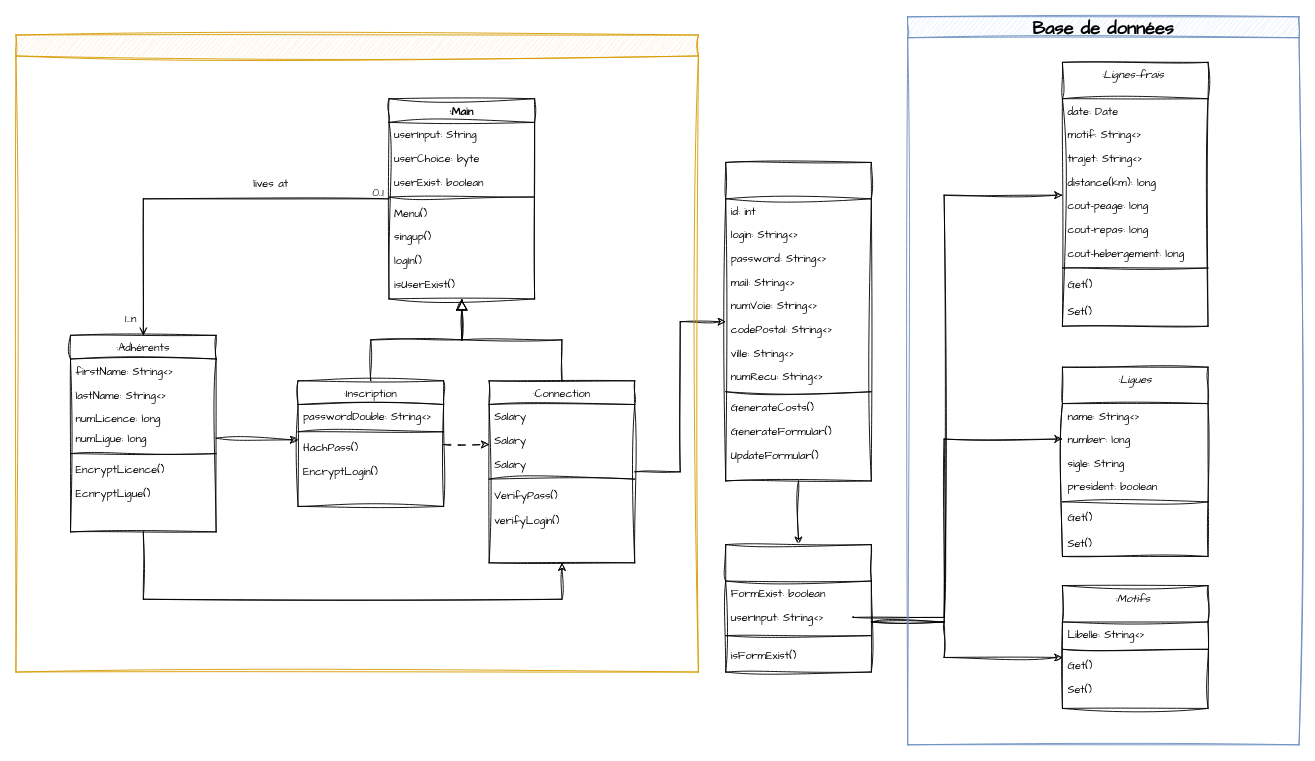
Image size: 1315x761. Some labels were removed from this diagram. The box of each missing label's shape, as (x1, y1, x2, y2) in pixels:
:Demandeurs: (725, 162, 871, 481)
:Formulaire: (725, 544, 871, 672)
Inscription & Connection: (15, 34, 698, 672)
